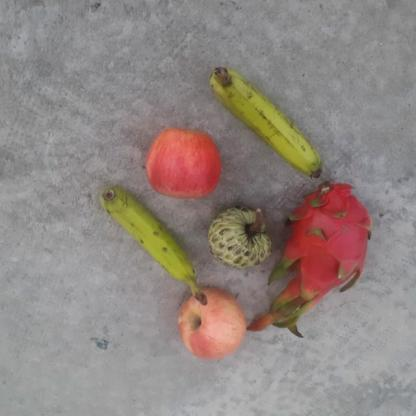annona: (206, 203, 272, 270)
apple: (143, 126, 221, 200), (177, 286, 245, 361)
banana: (208, 64, 325, 180), (98, 188, 208, 305)
pitaya: (278, 180, 376, 301)
